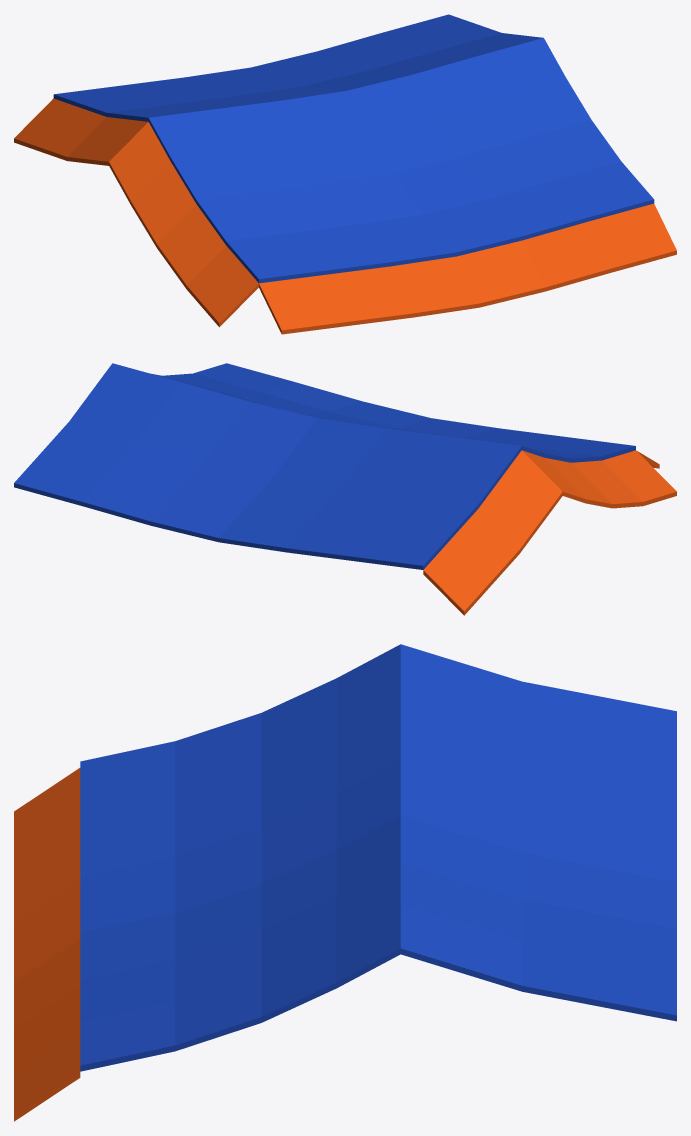
File: SM_Stall_Canopy_01.fbx
The picture shows the model from 3 angles, top to bottom: view 1: azimuth 30°, elevation 25°; view 2: azimuth 150°, elevation 25°; view 3: azimuth 270°, elevation 25°; orthographic projection. The views are drawn at different scales.
Visible parts, largest first — view 1: SM_Stall_Canopy_01; view 2: SM_Stall_Canopy_01; view 3: SM_Stall_Canopy_01.
Part boxes in pixels (<box>): SM_Stall_Canopy_01: <box>14,14,676,334</box>; SM_Stall_Canopy_01: <box>14,363,676,615</box>; SM_Stall_Canopy_01: <box>14,644,676,1121</box>.
Bounding box in the file's own units: 3.3 × 1.02 × 3.
Materials: 1 (1 with a texture image).
